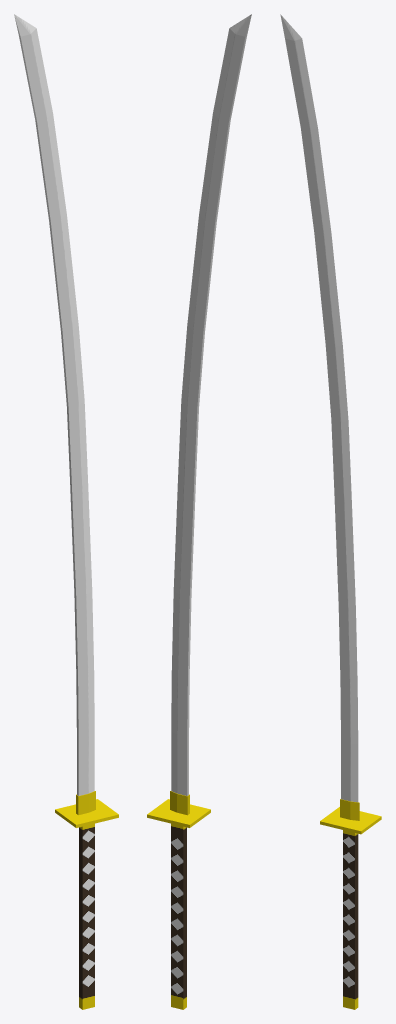
The model's file is masamune.obj.
3 views of the same model, side by side, from view 1: azimuth 30°, elevation 25°; view 2: azimuth 150°, elevation 25°; view 3: azimuth 330°, elevation 25° (orthographic). The views are drawn at different scales.
Parts seen in each view (by area): view 1: sword, grip; view 2: sword, grip; view 3: sword, grip.
Part boxes in pixels (x1,y1,x2,y2): sword: (14, 14, 95, 815); grip: (55, 799, 118, 1009); sword: (170, 14, 251, 815); grip: (147, 799, 210, 1009); sword: (280, 14, 359, 820); grip: (320, 807, 381, 1009).
Size of the model in its own units: 3.09 by 31.59 by 1.2.
